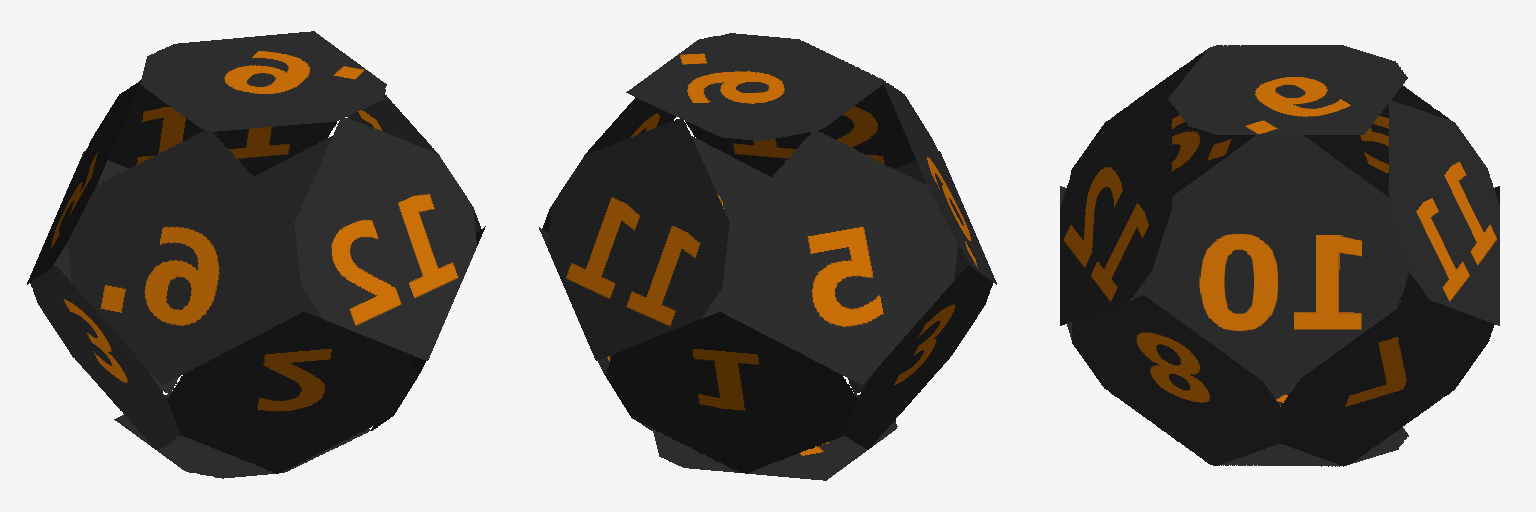
3 renders of one model, left to right at view 1: azimuth 30°, elevation 25°; view 2: azimuth 150°, elevation 25°; view 3: azimuth 270°, elevation 25°, orthographic.
Visible parts, largest first — view 1: Hedra02; view 2: Hedra02; view 3: Hedra02.
Boxes of the visible parts, <box> form: Hedra02: <box>27,31,485,478</box>; Hedra02: <box>539,33,996,480</box>; Hedra02: <box>1060,45,1499,466</box>.
Size of the model in its own units: 0.7858 by 0.6358 by 0.7474.
1 materials, 1 textured.